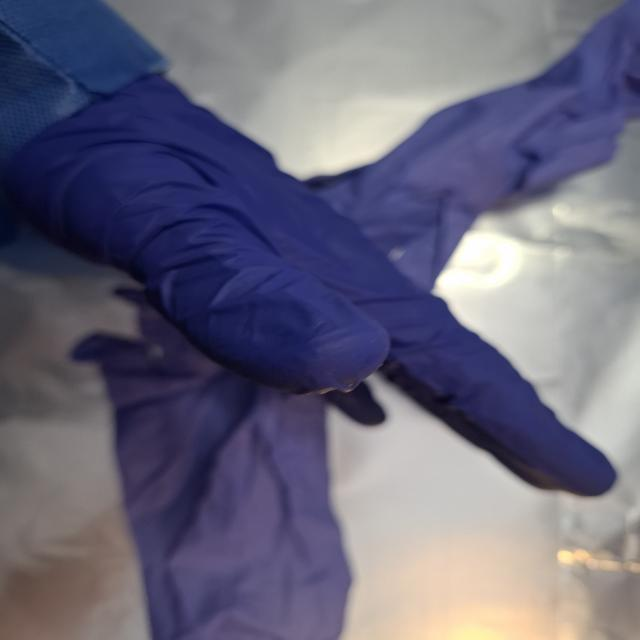glove_on: (2, 68, 626, 502)
